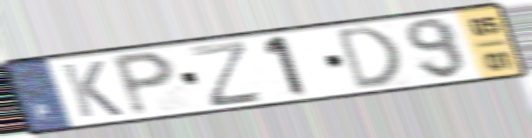1: (260, 33, 311, 99)
9: (403, 17, 470, 82)
D: (333, 23, 406, 93)
K: (58, 58, 127, 120)
P: (108, 49, 179, 119)
Z: (186, 38, 268, 110)
